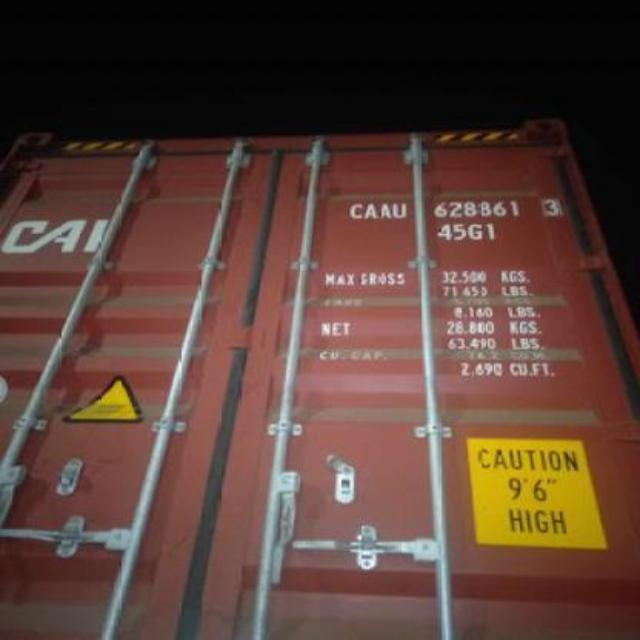1: (504, 188, 524, 218)
2: (448, 195, 462, 219)
3: (540, 192, 560, 218)
6: (490, 186, 506, 220), (434, 196, 446, 218)
8: (478, 190, 492, 220), (464, 193, 476, 219)
A: (362, 196, 376, 222), (378, 195, 392, 221)
C: (346, 196, 362, 222)
U: (392, 192, 406, 218)
